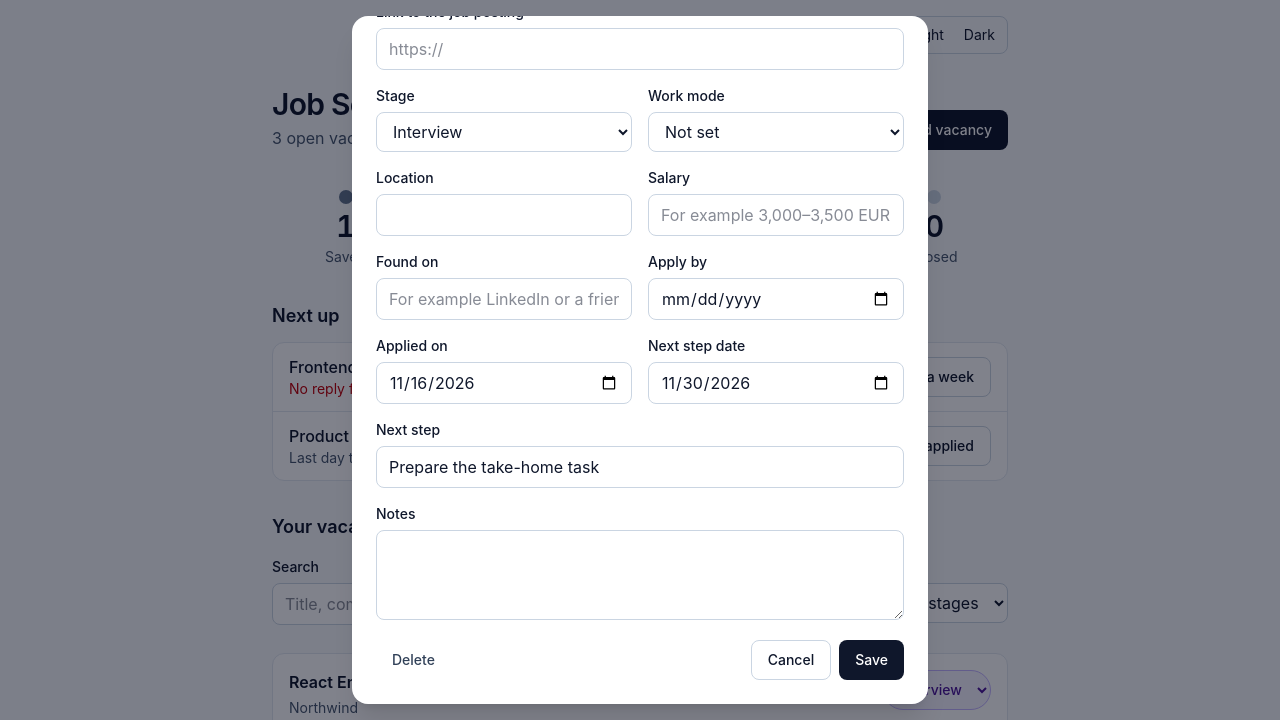
JobsPage overview › opens the vacancy named in the URL, and removes it from the URL on close
(page scrolled)
Click the button "Cancel": (791, 660) [751,640,831,680]
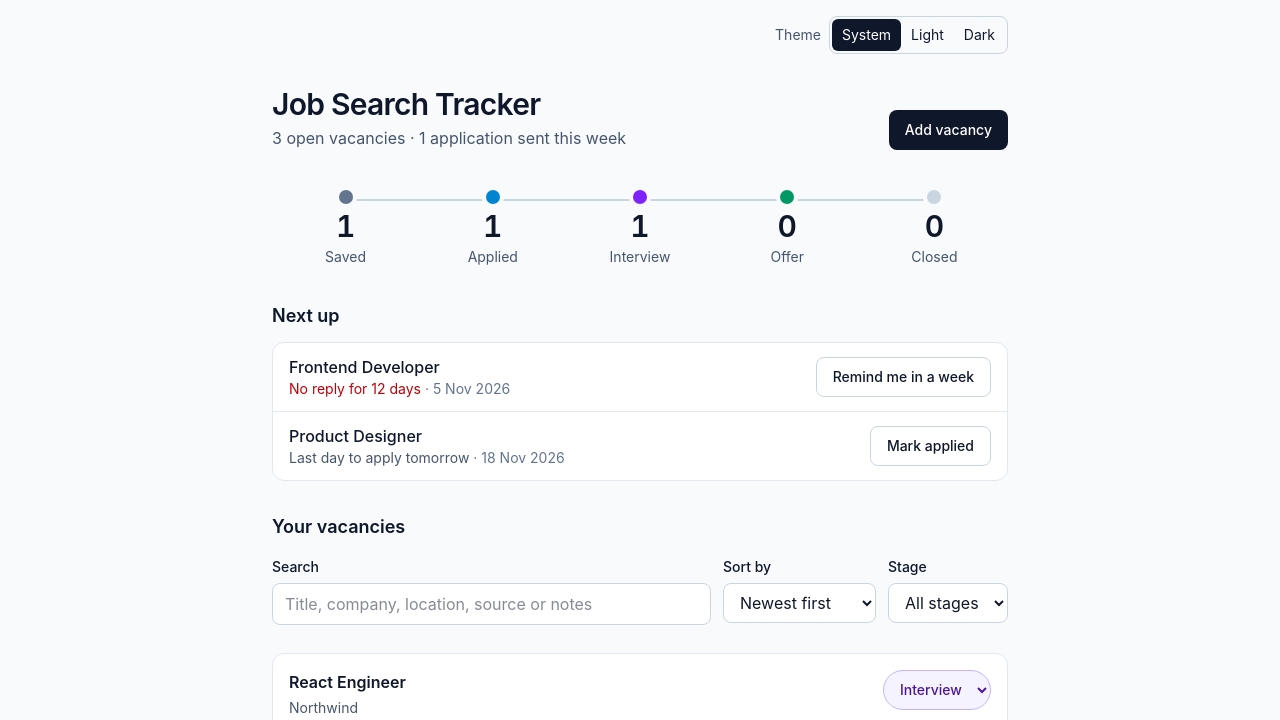
Check: the dialog is gone
